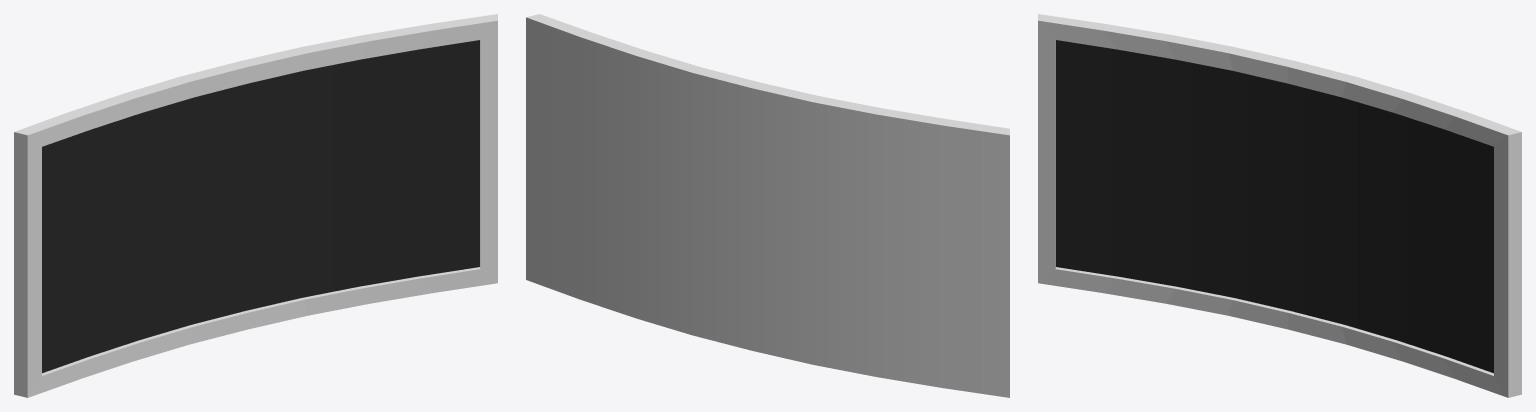
The model's file is Itr_Obj_Monitor_LCD_Curved_Screen_Off_04.FBX.
3 views of the same model, side by side, from view 1: azimuth 30°, elevation 25°; view 2: azimuth 150°, elevation 25°; view 3: azimuth 330°, elevation 25° (orthographic).
Parts seen in each view (by area): view 1: Itr_Obj_Monitor_LCD_Curved_Screen_Off_04; view 2: Itr_Obj_Monitor_LCD_Curved_Screen_Off_04; view 3: Itr_Obj_Monitor_LCD_Curved_Screen_Off_04.
Boxes of the visible parts, x1,y1,x2,y2 form: Itr_Obj_Monitor_LCD_Curved_Screen_Off_04: [14, 14, 497, 397]; Itr_Obj_Monitor_LCD_Curved_Screen_Off_04: [526, 14, 1009, 397]; Itr_Obj_Monitor_LCD_Curved_Screen_Off_04: [1038, 14, 1521, 397].
Size of the model in its own units: 67.75 by 35.13 by 5.58.
